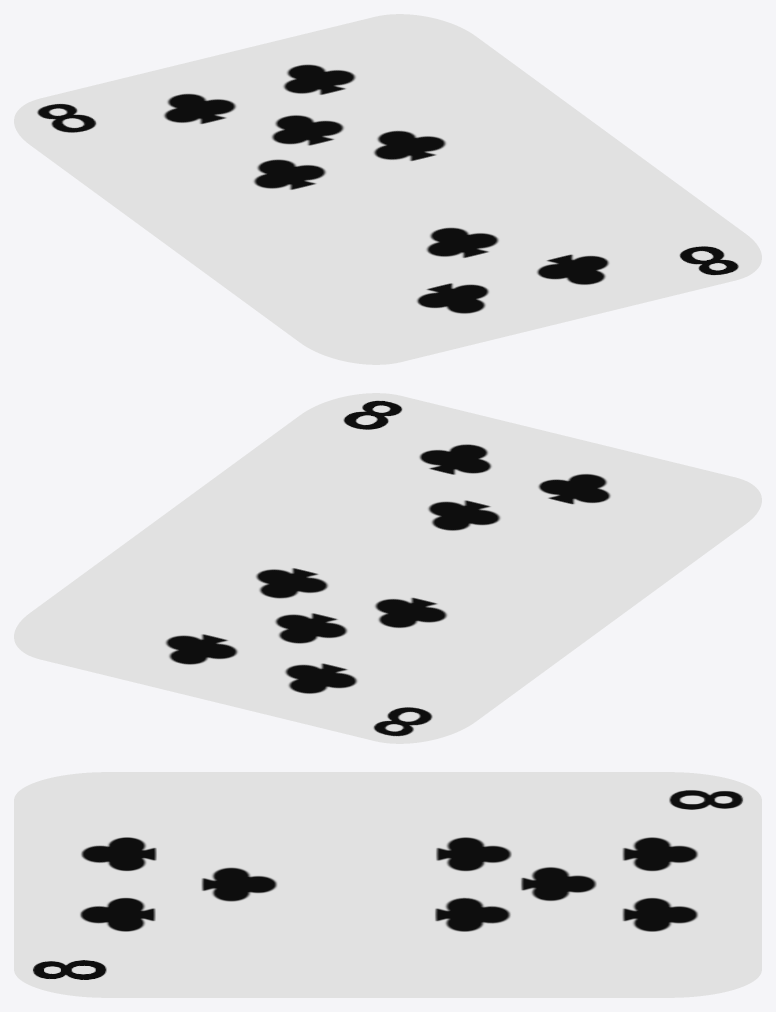
The model's file is Clubs8.fbx.
The picture shows the model from 3 angles, top to bottom: view 1: azimuth 30°, elevation 25°; view 2: azimuth 150°, elevation 25°; view 3: azimuth 270°, elevation 25°; orthographic projection. The views are drawn at different scales.
Visible parts, largest first — view 1: Plane.008; view 2: Plane.008; view 3: Plane.008.
Boxes of the visible parts, x1=… form: Plane.008: x1=14, y1=14, x2=761, y2=364; Plane.008: x1=14, y1=393, x2=761, y2=743; Plane.008: x1=14, y1=772, x2=761, y2=997.
Bounding box in the file's own units: 500 × 0 × 700.
1 material, 1 textured.
